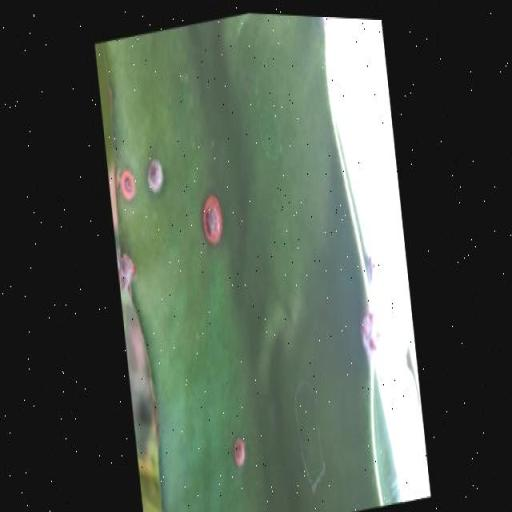stemcanker: (326, 160, 370, 232), (294, 426, 318, 502)
